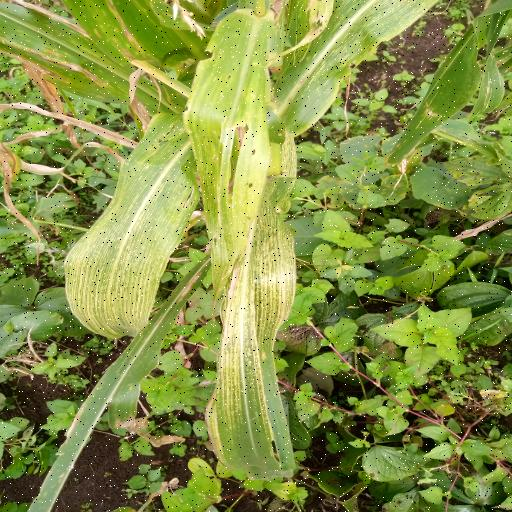Corn_Streak: (200, 10, 324, 486), (69, 118, 208, 333)
